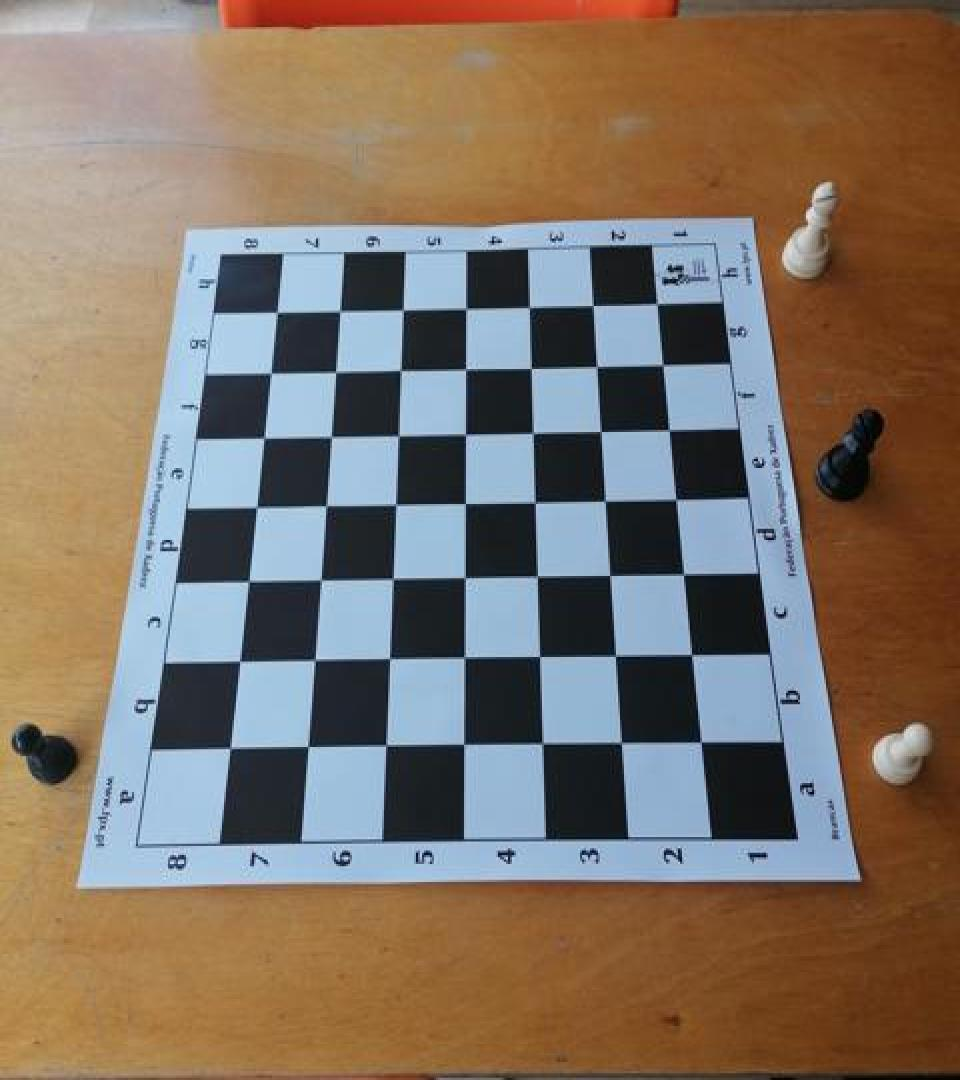xcorner: (216, 732, 244, 764), (294, 731, 322, 763), (372, 730, 400, 762), (689, 724, 717, 756), (375, 642, 403, 674), (451, 641, 479, 673), (527, 640, 555, 672), (378, 562, 406, 594), (451, 560, 479, 592), (524, 559, 552, 591), (311, 489, 339, 521), (381, 488, 409, 520), (451, 486, 479, 518), (663, 480, 691, 512), (383, 418, 411, 450), (451, 416, 479, 448), (519, 414, 547, 446), (321, 355, 349, 387), (386, 353, 414, 385), (451, 352, 479, 384), (649, 345, 677, 377), (263, 297, 291, 329), (451, 291, 479, 323), (515, 289, 543, 321), (451, 728, 479, 759), (530, 727, 558, 758), (609, 726, 637, 757), (225, 646, 253, 677), (300, 645, 328, 676), (603, 638, 631, 669), (680, 637, 708, 668), (234, 566, 262, 597), (306, 564, 334, 595), (597, 557, 625, 588), (671, 556, 699, 587), (242, 492, 270, 523), (521, 484, 549, 515), (592, 483, 620, 514), (249, 422, 277, 453), (316, 421, 344, 452), (587, 413, 615, 444), (656, 411, 684, 442), (256, 358, 284, 389), (517, 350, 545, 381), (583, 348, 611, 379), (325, 295, 353, 326), (388, 294, 416, 325), (578, 287, 606, 318), (643, 285, 671, 316)
